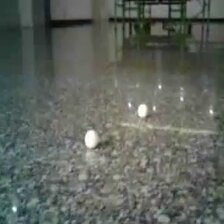w: (83, 129, 98, 147), (137, 104, 147, 117)
